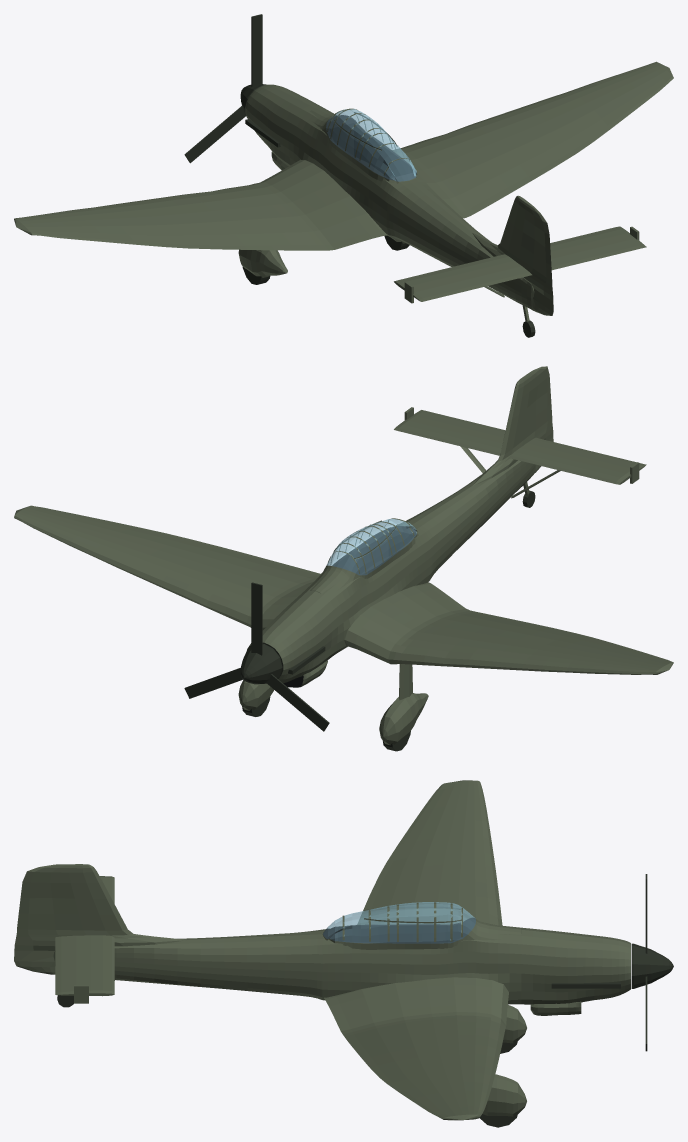
3 renders of one model, top to bottom at view 1: azimuth 30°, elevation 25°; view 2: azimuth 150°, elevation 25°; view 3: azimuth 270°, elevation 25°, orthographic. The views are drawn at different scales.
Visible parts, largest first — view 1: JU87_Wing, JU87_Fuselage, JU87_Tailplane, JU87_Fin, JU87_Glass, JU87_Prop, JU87_Gear, JU87_Frames; view 2: JU87_Wing, JU87_Fuselage, JU87_Tailplane, JU87_Fin, JU87_Glass, JU87_Gear, JU87_Prop, JU87_Spinner, JU87_Frames; view 3: JU87_Wing, JU87_Fuselage, JU87_Fin, JU87_Glass, JU87_Tailplane, JU87_Gear, JU87_Spinner, JU87_Frames, JU87_Radiator.
Part boxes in pixels (box(x1,y1,x2,y2)): JU87_Wing: box(14, 61, 673, 250); JU87_Fuselage: box(245, 84, 534, 310); JU87_Tailplane: box(394, 226, 646, 301); JU87_Fin: box(472, 195, 553, 315); JU87_Glass: box(326, 108, 416, 181); JU87_Prop: box(184, 14, 262, 163); JU87_Gear: box(238, 238, 405, 277); JU87_Frames: box(327, 108, 409, 175); JU87_Wing: box(14, 505, 673, 674); JU87_Fuselage: box(247, 460, 535, 682); JU87_Tailplane: box(394, 410, 646, 484); JU87_Fin: box(472, 366, 553, 485); JU87_Glass: box(326, 518, 416, 575); JU87_Gear: box(238, 664, 428, 745); JU87_Prop: box(184, 582, 329, 731); JU87_Spinner: box(240, 643, 282, 684); JU87_Frames: box(327, 518, 414, 573); JU87_Wing: box(324, 780, 508, 1120); JU87_Fuselage: box(53, 917, 630, 1004); JU87_Fin: box(14, 864, 186, 974); JU87_Glass: box(323, 902, 475, 943); JU87_Tailplane: box(55, 876, 114, 996); JU87_Gear: box(482, 1005, 526, 1116); JU87_Spinner: box(631, 943, 673, 988); JU87_Frames: box(342, 902, 462, 942); JU87_Radiator: box(530, 1001, 581, 1015).
Size of the model in its own units: 13.8 by 4.24 by 11.32.
